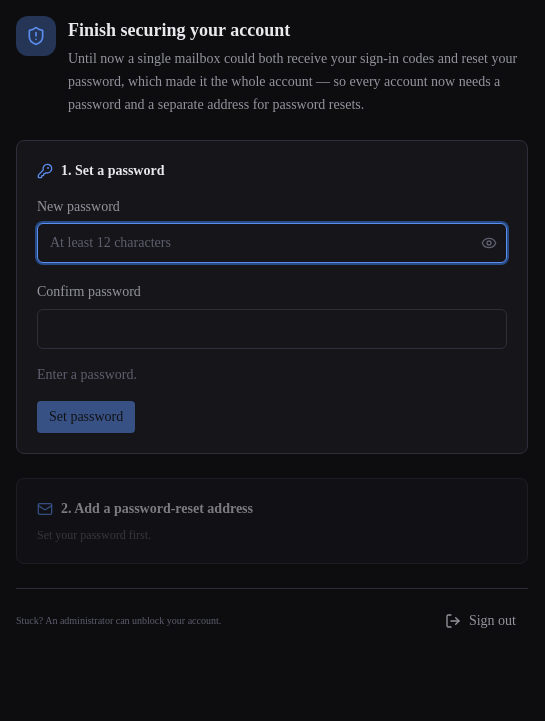
the gate screen › shows the server refusal rather than assuming the meter was right
Type "Tf4#qRn8!vZw" into the password field labelled "New password" at (272, 243), box [37, 223, 507, 263]
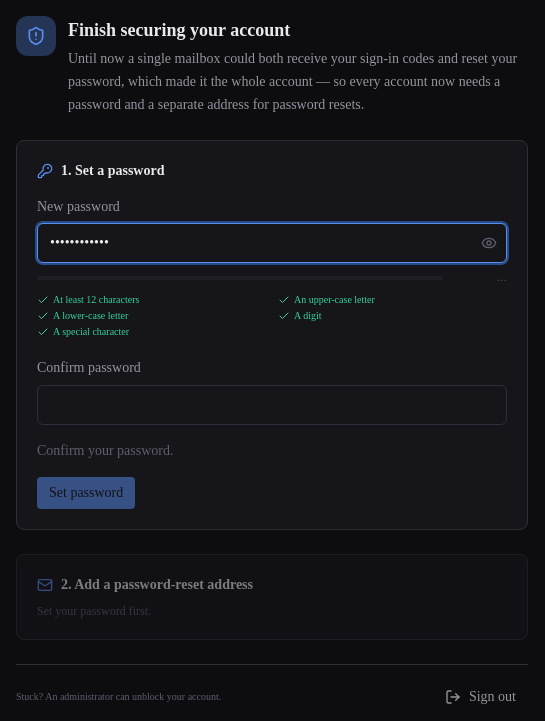
Type "Tf4#qRn8!vZw" into the password field labelled "Confirm password" at (272, 405), box [37, 385, 507, 425]
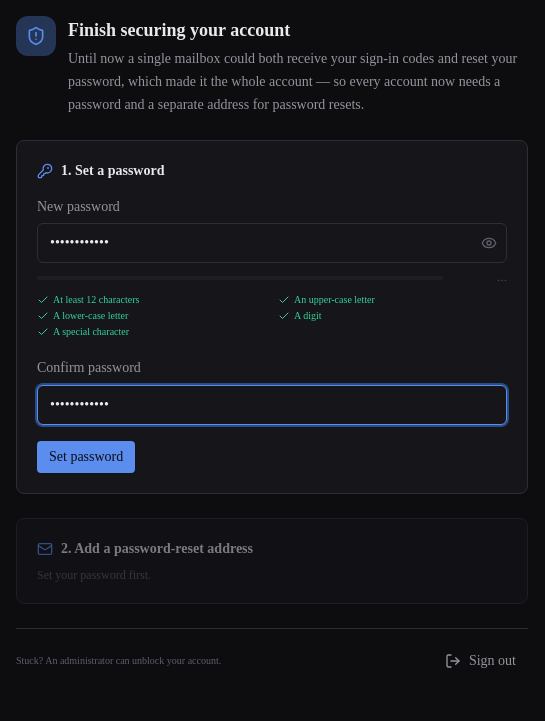
Now the button "Set password" is enabled
Click the button "Set password" at (86, 457), box [37, 441, 135, 473]
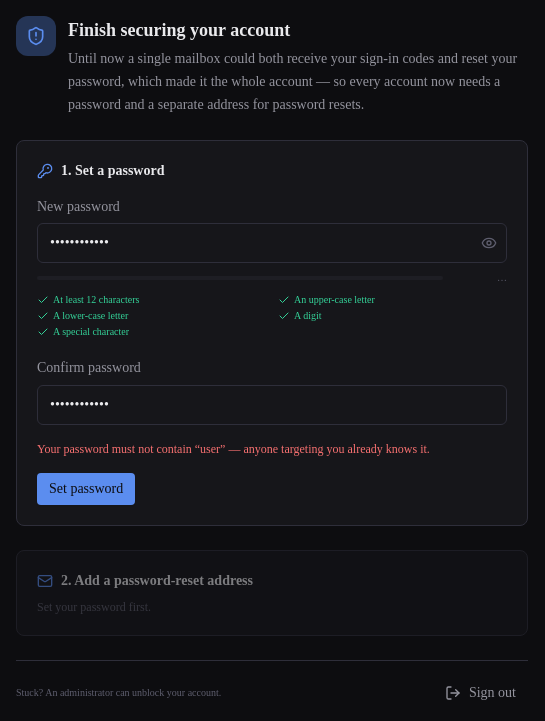
Now the text "must not contain" is shown, box [37, 442, 430, 456]
